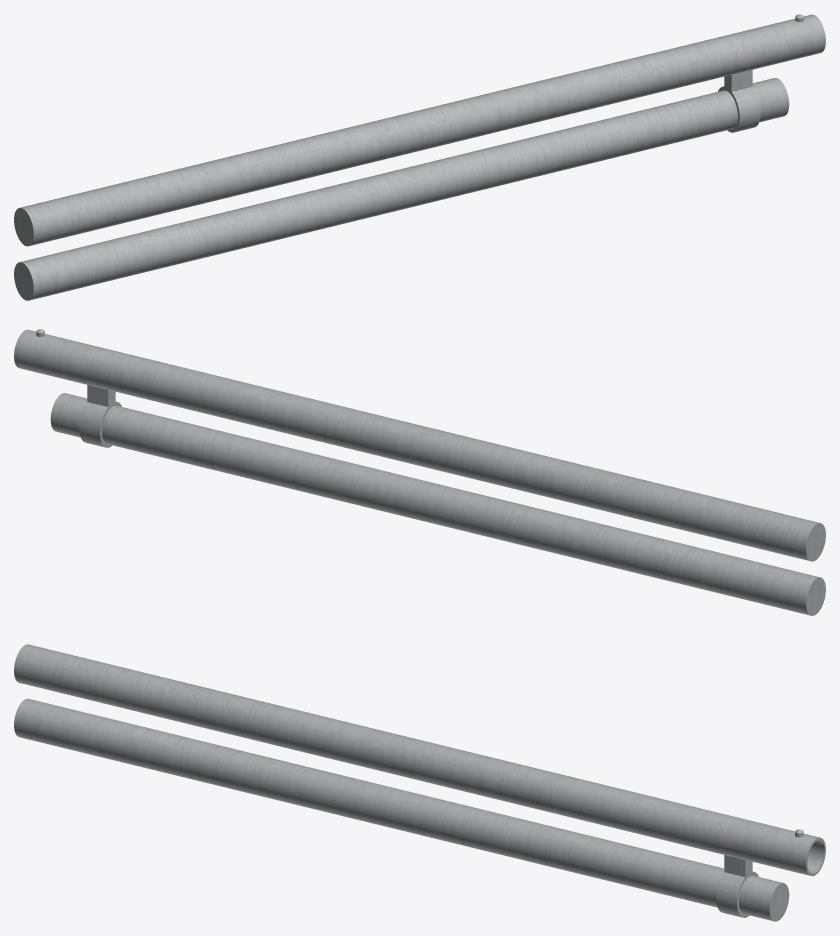
The model's file is Namlu.glb.
3 views of the same model, one above another, from view 1: azimuth 30°, elevation 25°; view 2: azimuth 150°, elevation 25°; view 3: azimuth 330°, elevation 25° (orthographic).
Parts seen in each view (by area): view 1: Namlu; view 2: Namlu; view 3: Namlu.
Boxes of the visible parts, x1,y1,x2,y2 form: Namlu: [14, 14, 825, 300]; Namlu: [14, 329, 825, 615]; Namlu: [14, 644, 825, 921].
Size of the model in its own units: 2.38 by 0.2855 by 0.1229.
1 material, 1 textured.
